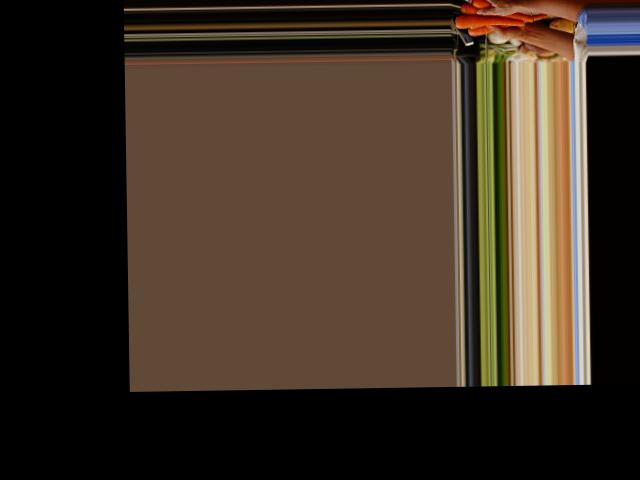carrot: (459, 4, 536, 26)
